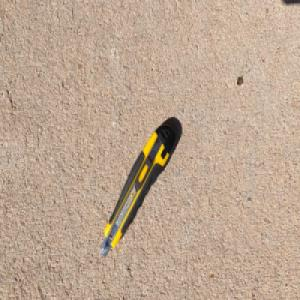Cutter: (99, 122, 176, 258)
